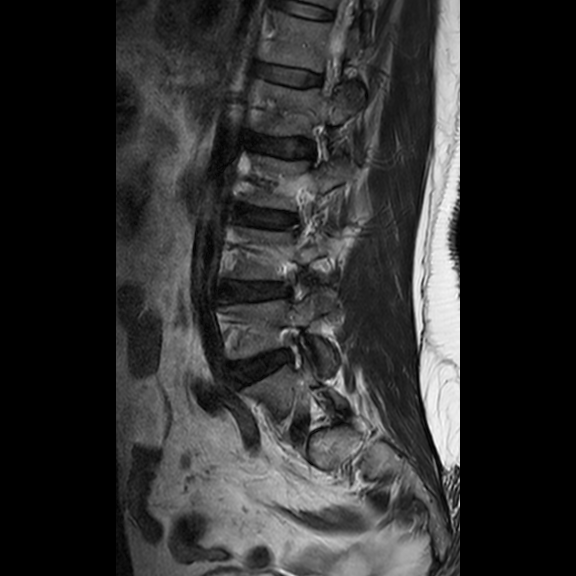RFS1: (267, 316, 313, 378)
